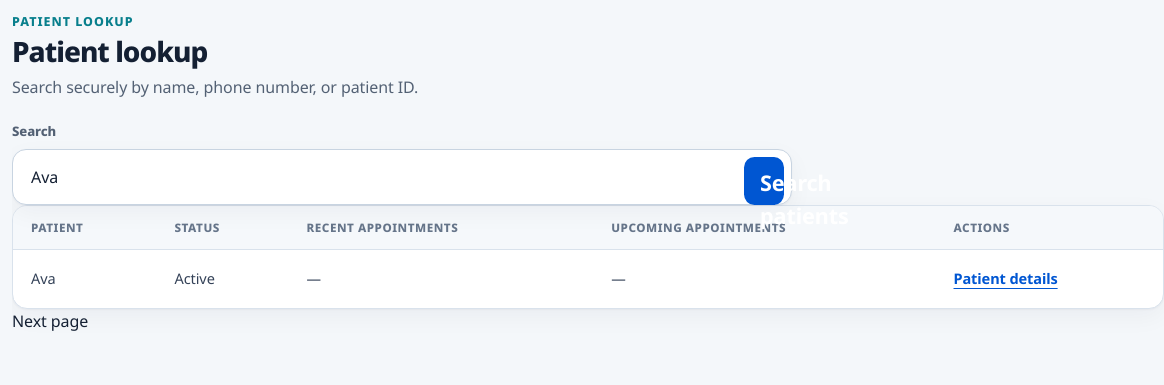
Test case: patient pagination › blocks duplicate pagination and deduplicates patients
Step 1. Click the button "Next page" → (50, 321), box [12,309,88,333]
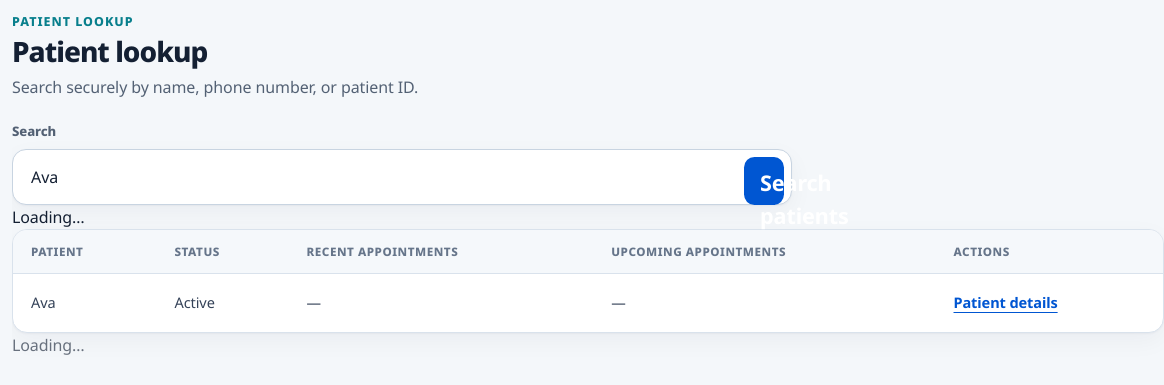
Step 2. Click the button named "Next page" → (48, 345), box [12,333,85,357]
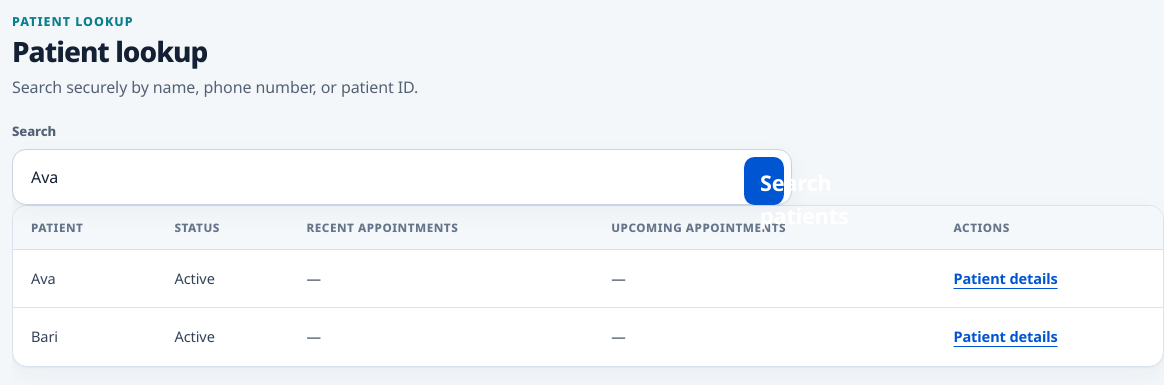
Expected: the text "Bari" is shown, [13,308,156,366]
Expected: the text "Ava" is shown once, [13,250,156,308]
